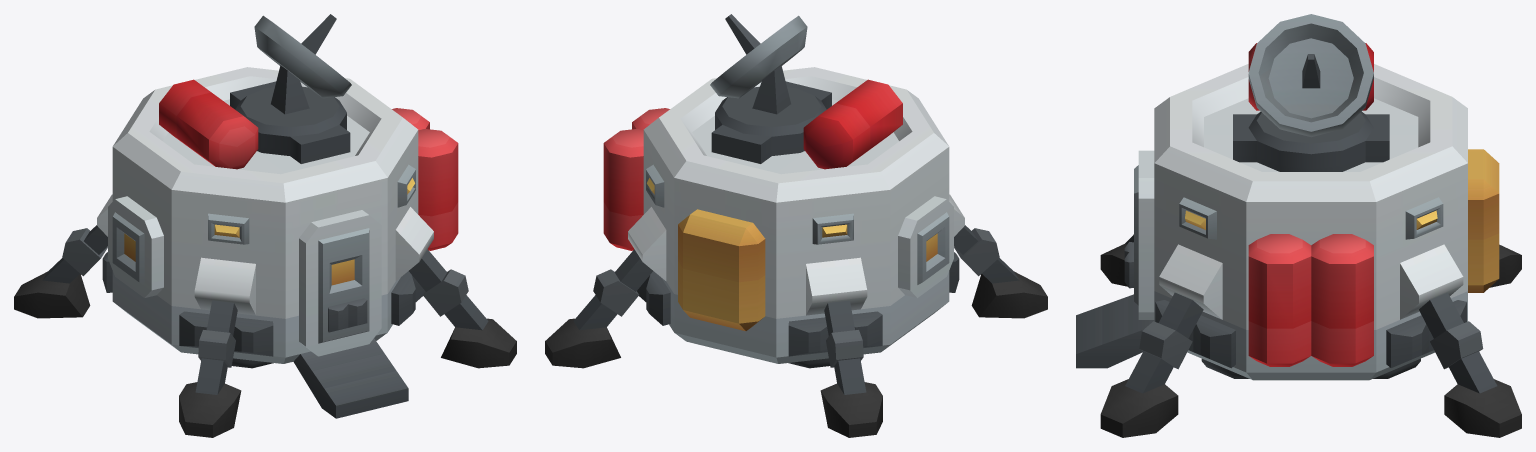
The model's file is lander-a.glb.
3 views of the same model, side by side, from view 1: azimuth 30°, elevation 25°; view 2: azimuth 150°, elevation 25°; view 3: azimuth 270°, elevation 25° (orthographic). The views are drawn at different scales.
Visible parts, largest first — view 1: lander_A; view 2: lander_A; view 3: lander_A.
Part boxes in pixels (x1=…): lander_A: x1=14, y1=14, x2=516, y2=437; lander_A: x1=545, y1=14, x2=1047, y2=437; lander_A: x1=1076, y1=14, x2=1521, y2=437.
Size of the model in its own units: 1.37 by 1.19 by 1.42.
Materials: 1 (1 with a texture image).
